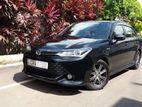car: (23, 20, 139, 89)
